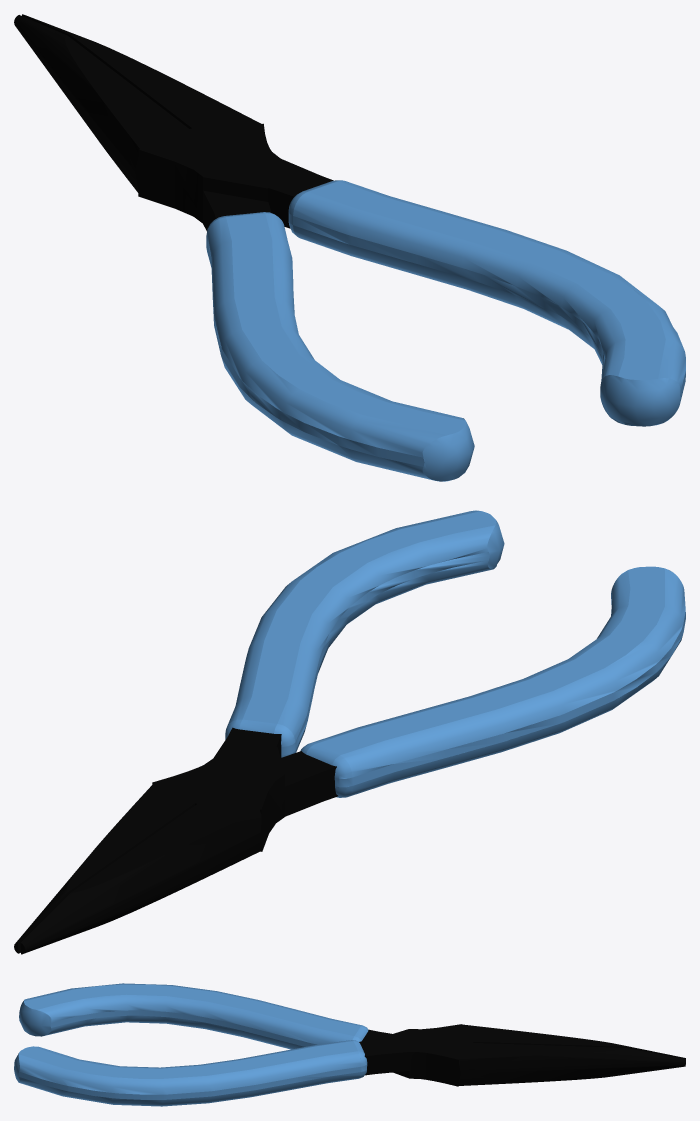
File: Pliers-2.FBX
3 views of the same model, one above another, from view 1: azimuth 30°, elevation 25°; view 2: azimuth 150°, elevation 25°; view 3: azimuth 270°, elevation 25° (orthographic). The views are drawn at different scales.
Visible parts, largest first — view 1: handle, nose; view 2: handle, nose; view 3: handle, nose.
Part boxes in pixels (x1,y1,x2,y2): handle: (206, 180, 685, 481); nose: (14, 14, 333, 230); handle: (225, 510, 685, 797); nose: (14, 727, 338, 954); handle: (14, 983, 368, 1106); nose: (359, 1024, 685, 1086).
Size of the model in its own units: 6.67 by 1.13 by 17.47.
